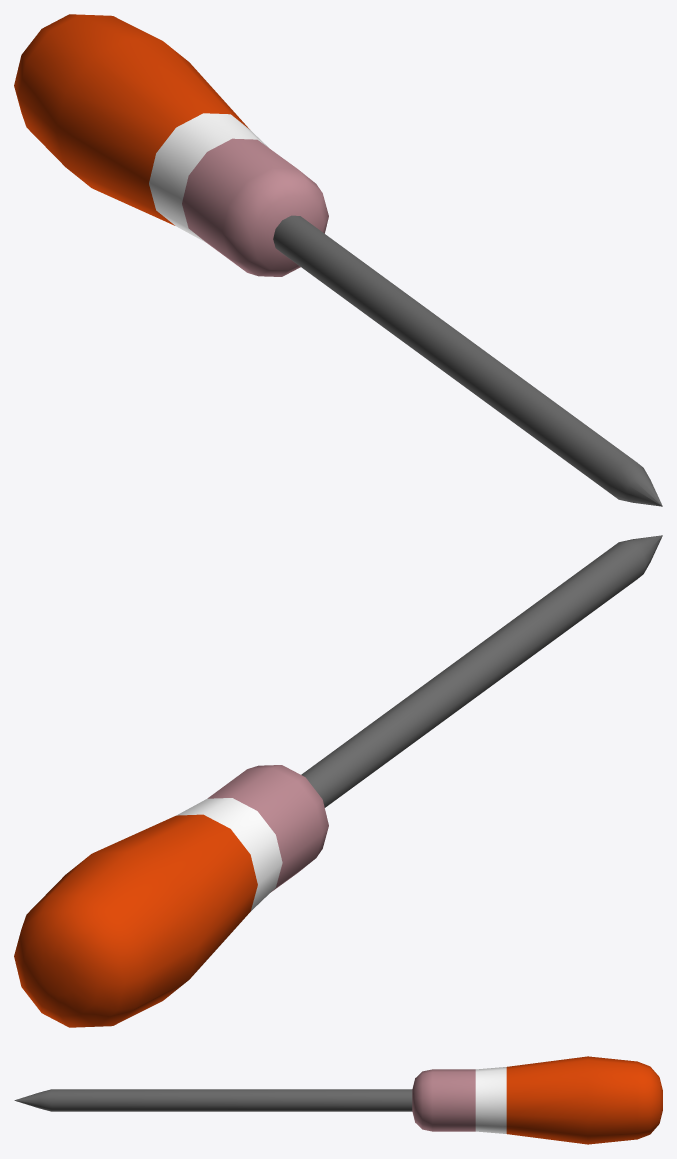
Rendered from Screwdriver_3.fbx.
3 renders of one model, top to bottom at view 1: azimuth 30°, elevation 25°; view 2: azimuth 150°, elevation 25°; view 3: azimuth 270°, elevation 25°, orthographic. The views are drawn at different scales.
Parts seen in each view (by area): view 1: Screwdriver_3; view 2: Screwdriver_3; view 3: Screwdriver_3.
Part boxes in pixels (x1,y1,x2,y2): Screwdriver_3: [14, 14, 662, 506]; Screwdriver_3: [14, 535, 662, 1027]; Screwdriver_3: [14, 1056, 662, 1144].
Size of the model in its own units: 0.0501 by 0.0501 by 0.3675.
